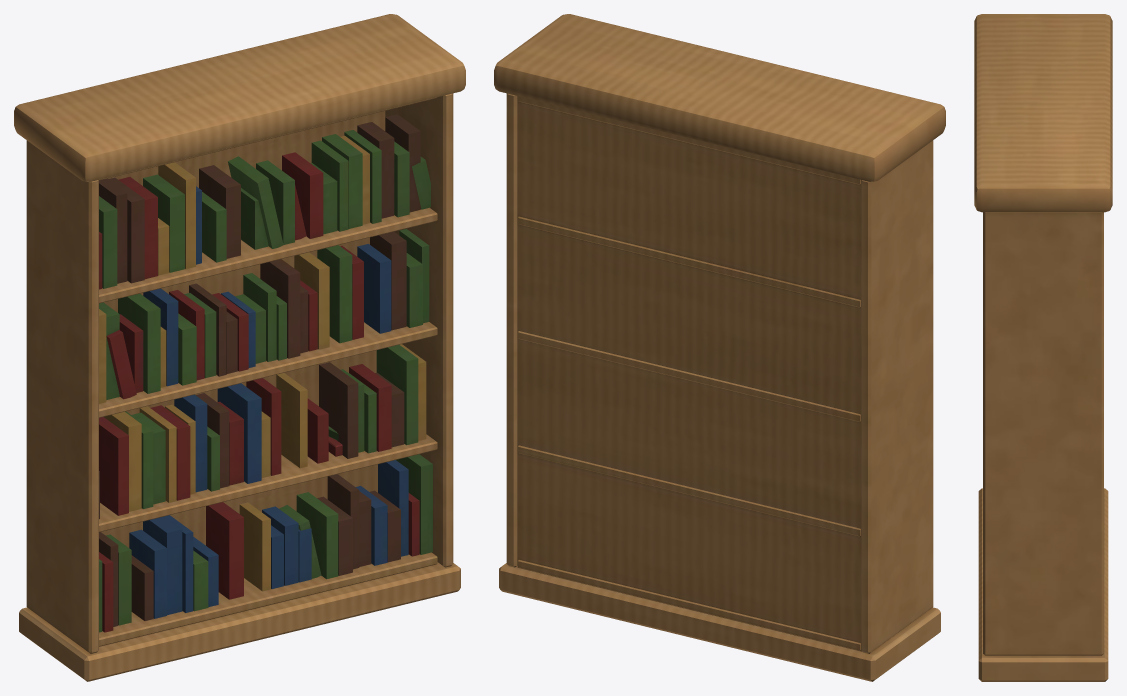
Rendered from bookcase.glb.
3 views of the same model, side by side, from view 1: azimuth 30°, elevation 25°; view 2: azimuth 150°, elevation 25°; view 3: azimuth 270°, elevation 25° (orthographic). The views are drawn at different scales.
Visible parts, largest first — view 1: bookcase; view 2: bookcase; view 3: bookcase.
Part boxes in pixels (<box>): bookcase: <box>14,14,465,681</box>; bookcase: <box>494,14,945,681</box>; bookcase: <box>974,14,1112,681</box>.
Bounding box in the file's own units: 1.9 × 2.5 × 0.63.
Materials: 1 (1 with a texture image).
